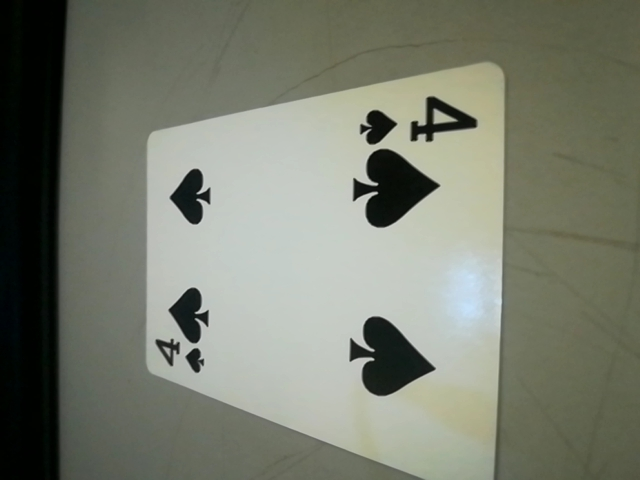ht 4: (351, 89, 483, 155)
